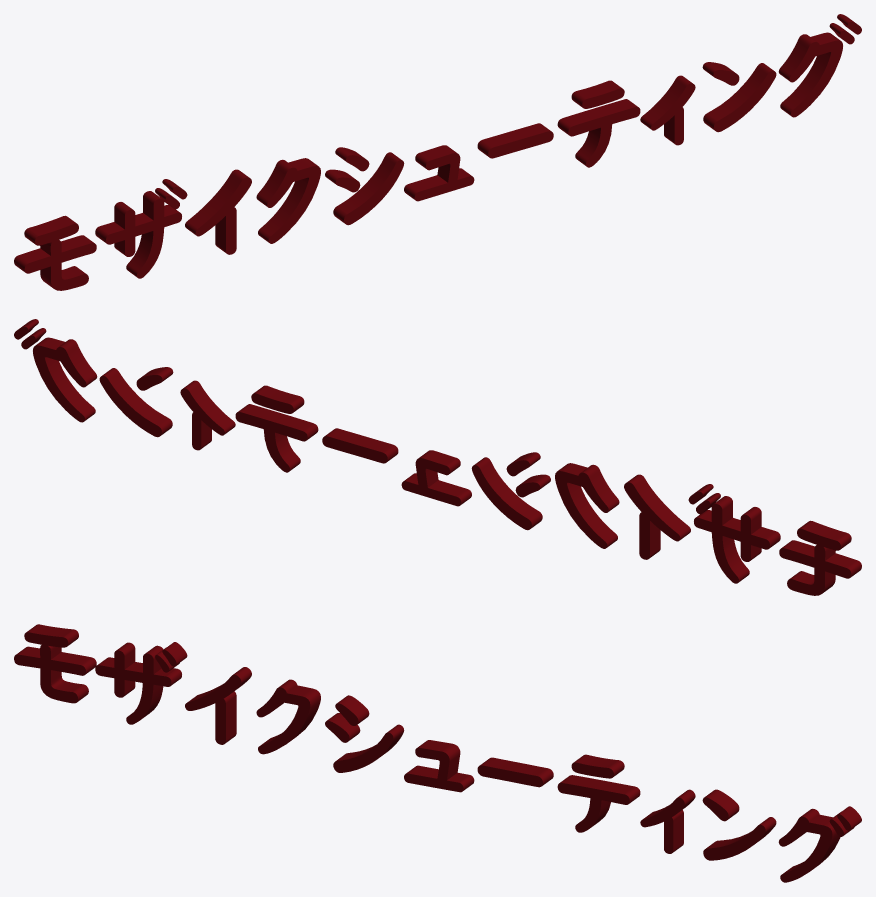
Rendered from TitleModel.fbx.
3 renders of one model, top to bottom at view 1: azimuth 30°, elevation 25°; view 2: azimuth 150°, elevation 25°; view 3: azimuth 330°, elevation 25°, orthographic.
Visible parts, largest first — view 1: typeMesh1; view 2: typeMesh1; view 3: typeMesh1.
Part boxes in pixels (box(x1,y1,x2,y2)): typeMesh1: box(14, 14, 861, 290); typeMesh1: box(14, 319, 861, 595); typeMesh1: box(14, 624, 861, 882).
Size of the model in its own units: 61.37 by 5.85 by 1.36.
